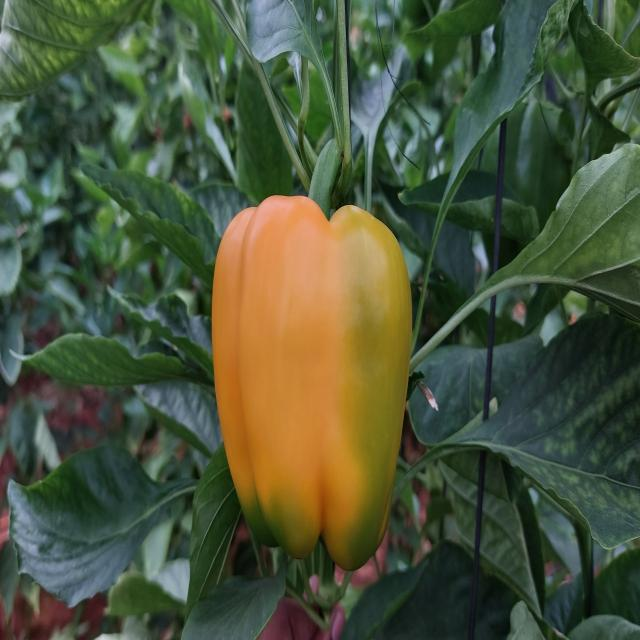GreenishYellow--Can-be-Harvested: (178, 177, 428, 590)
